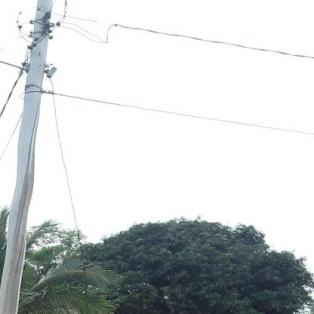Poste: (0, 0, 61, 314)
